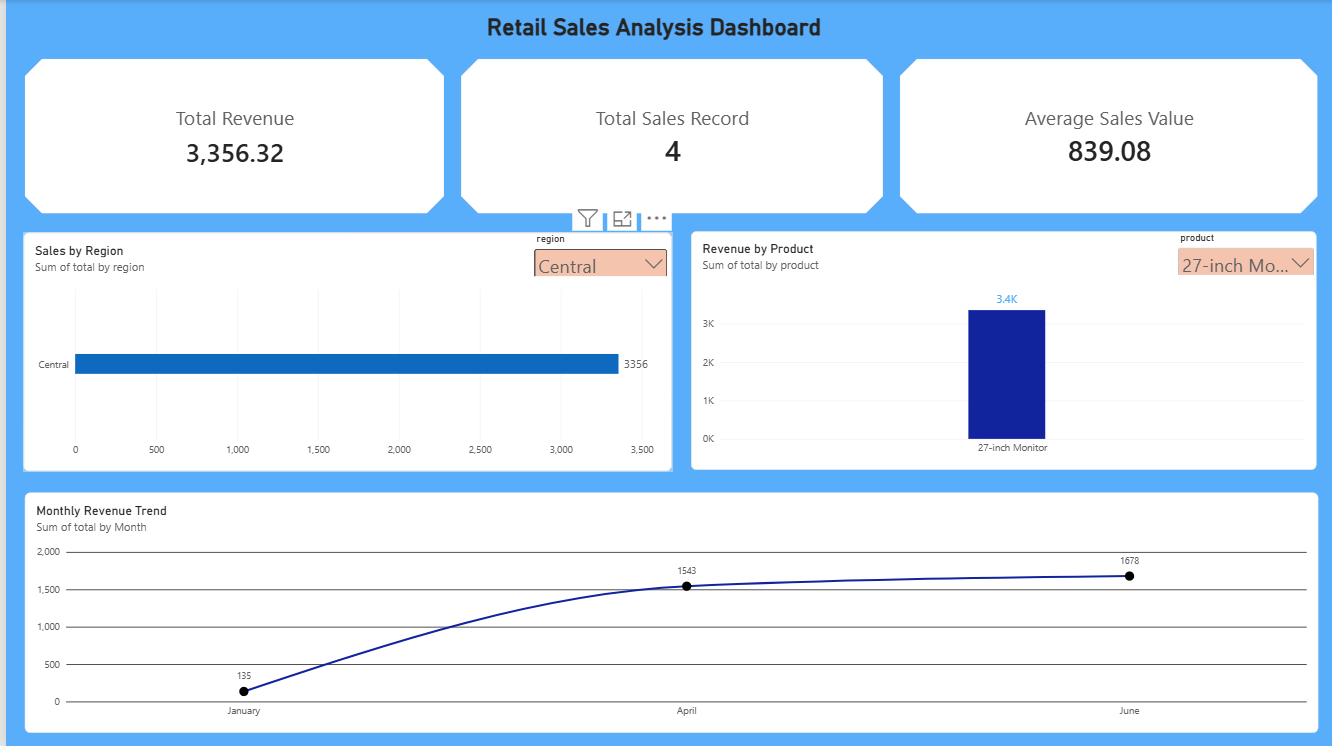

The dashboard page shown, as its layout file describes it:
{"tool":"powerbi","page":{"name":"Page 1","canvas":[1920,1080],"ordinal":0},"visuals":[{"type":"cardVisual","fields":{"Data":["Sample_Data.Total Revenue"]},"box":[26.8,84.4,607.2,224.4],"z":0},{"type":"cardVisual","fields":{"Data":["Sample_Data.Total Sales Record"]},"box":[658.7,84.4,611.3,224.4],"z":1000},{"type":"cardVisual","fields":{"Data":["Sample_Data.Average Sales Value"]},"box":[1294.7,84.4,605.1,224.4],"z":2000},{"type":"clusteredBarChart","title":"Sales by Region","fields":{"Category":["Sample_Data.region"],"Y":["Sum(Sample_Data.total)"]},"box":[26.1,337,938.6,345.8],"z":3000},{"type":"clusteredColumnChart","title":"Revenue by Product","fields":{"Category":["Sample_Data.product"],"Y":["Sum(Sample_Data.total)"]},"box":[992.1,335.5,905.7,345.8],"z":4000},{"type":"lineChart","title":"Monthly Revenue Trend","fields":{"Category":["Sample_Data.date.Variation.Date Hierarchy.Month"],"Y":["Sum(Sample_Data.total)"]},"box":[26.8,712.2,1873.1,347.9],"z":5000},{"type":"textbox","title":"Retail Sales Analysis Dashboard","box":[504.3,0,866.6,70],"z":6000},{"type":"slicer","fields":{"Values":["Sample_Data.region"]},"box":[760.9,337,202.2,63],"z":6001},{"type":"slicer","fields":{"Values":["Sample_Data.product"]},"box":[1691.3,334.8,206.5,63],"z":6002}]}

Visuals, with their boxes in screenshot pixels (x1, y1, x2, y2), scaled from the page's 1920x1080 canvas onto the 1332x746 screenshot:
cardVisual - Sample_Data.Total Revenue: x1=19 y1=58 x2=440 y2=213
cardVisual - Sample_Data.Total Sales Record: x1=457 y1=58 x2=881 y2=213
cardVisual - Sample_Data.Average Sales Value: x1=898 y1=58 x2=1318 y2=213
"Sales by Region" clusteredBarChart: x1=18 y1=233 x2=669 y2=472
"Revenue by Product" clusteredColumnChart: x1=688 y1=232 x2=1317 y2=471
"Monthly Revenue Trend" lineChart: x1=19 y1=492 x2=1318 y2=732
"Retail Sales Analysis Dashboard" textbox: x1=350 y1=0 x2=951 y2=48
slicer - Sample_Data.region: x1=528 y1=233 x2=668 y2=276
slicer - Sample_Data.product: x1=1173 y1=231 x2=1317 y2=275
